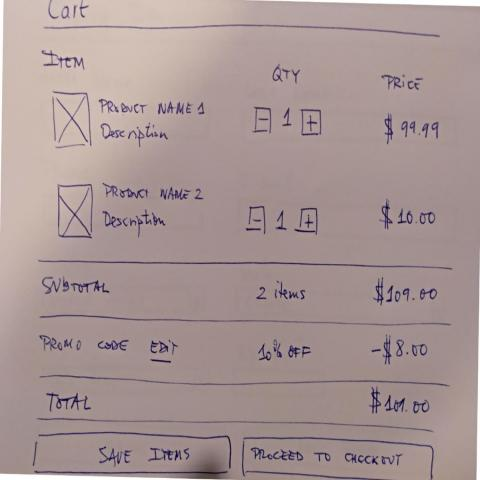Button: (239, 432, 436, 478), (32, 430, 232, 473)
Image: (50, 87, 93, 149), (55, 180, 94, 239)
